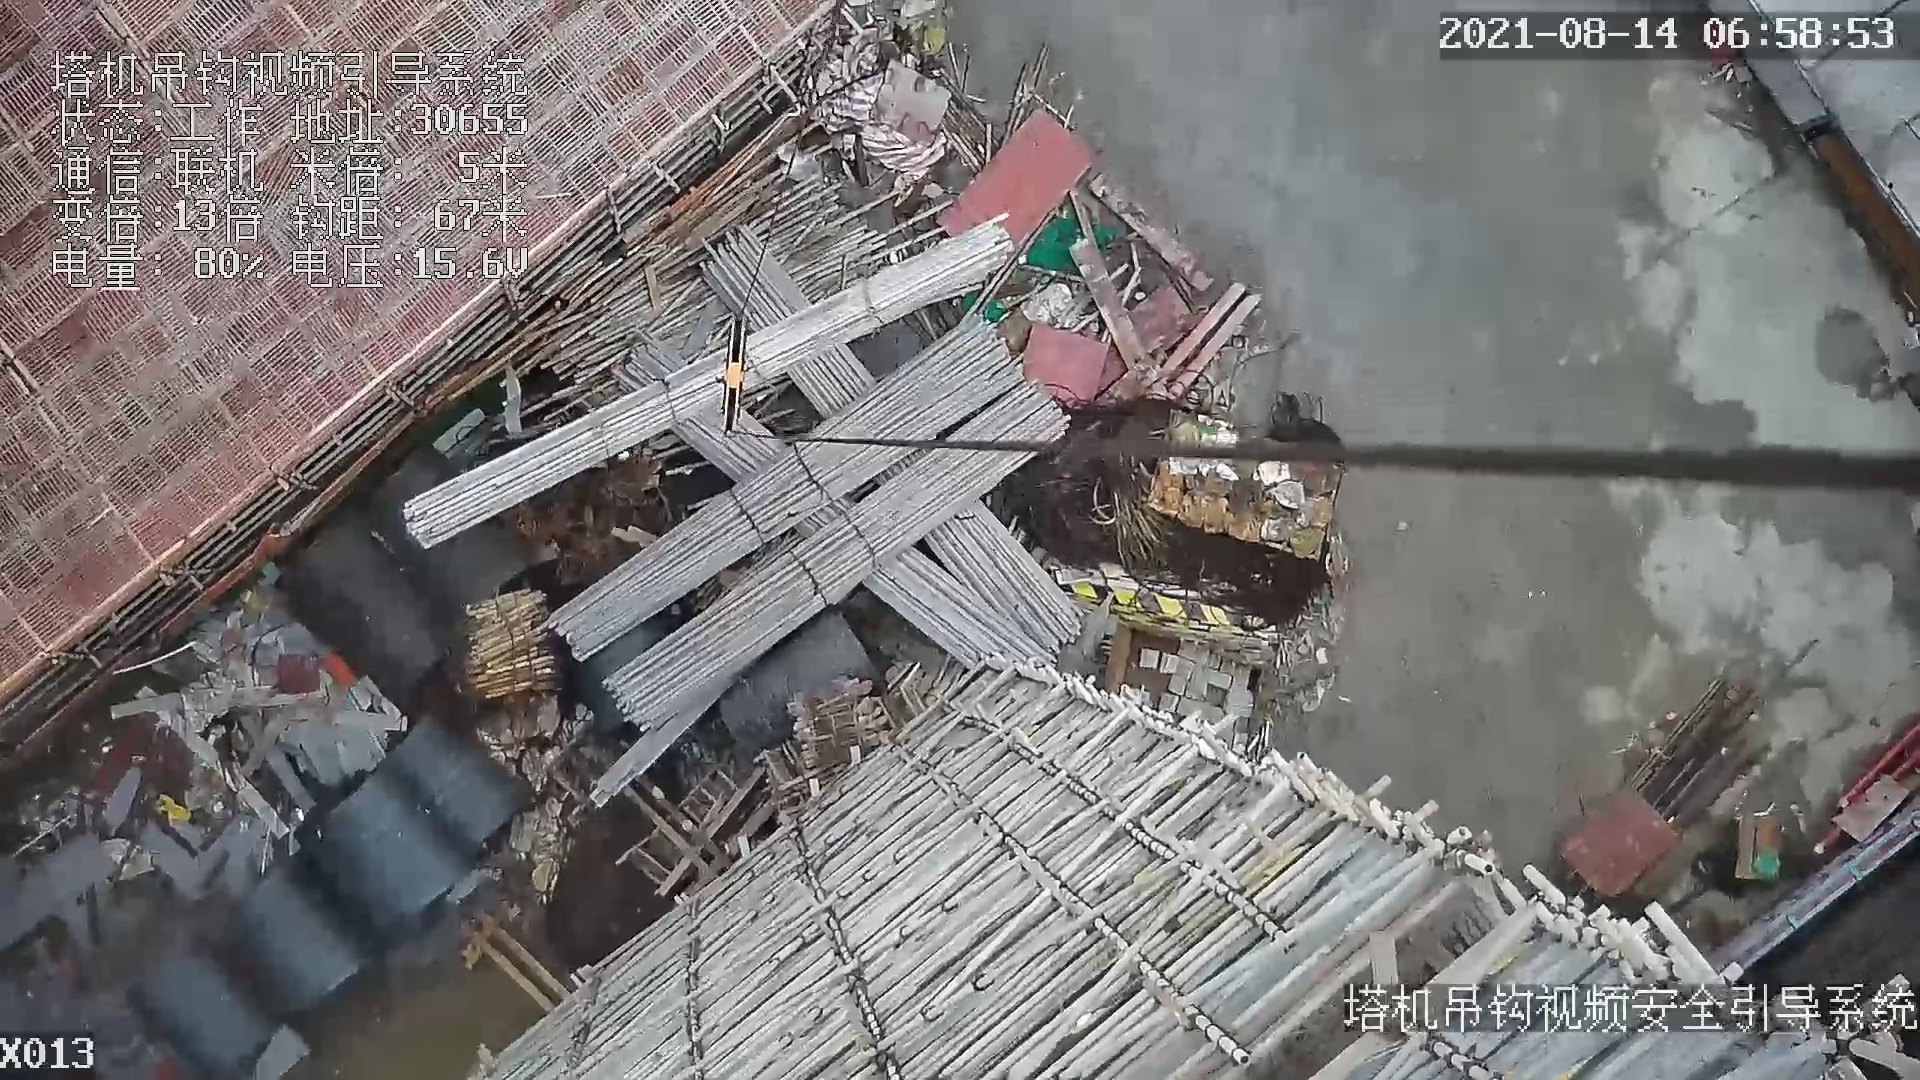hook: (720, 314, 756, 435)
rebar: (396, 220, 1011, 553), (545, 326, 1023, 661), (609, 381, 1067, 727), (924, 501, 1083, 654), (862, 545, 1058, 665)
wood: (458, 589, 562, 700)
